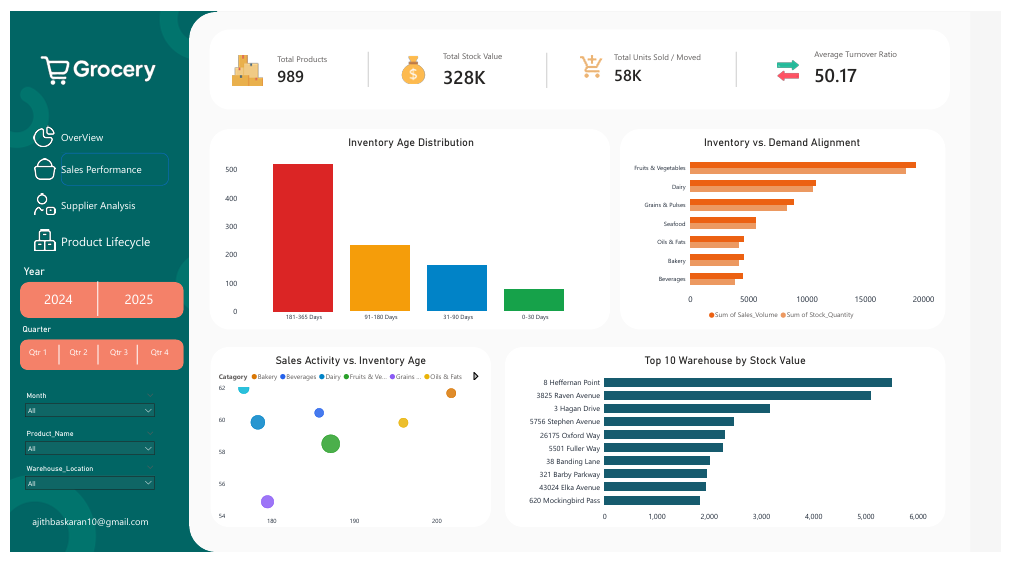

The page's visual inventory and layout, read from the dashboard file:
{"tool":"powerbi","page":{"name":"Product Lifecycle","canvas":[1980,1080],"ordinal":3},"visuals":[{"type":"shape","box":[357.8,0,1561.4,1080],"z":0},{"type":"cardVisual","fields":{"Data":["Sum(Grocery_Inventory.Sales_Volume)"]},"box":[1177.6,41.2,273.3,143.1],"z":0,"group":"g2"},{"type":"cardVisual","fields":{"Data":["Key Measures.Total Products"]},"box":[505.3,45.5,210.4,138.8],"z":0,"group":"g1"},{"type":"cardVisual","fields":{"Data":["Key Measures.Average Turnover Ratio"]},"box":[1577.6,45.5,242.9,132.3],"z":0,"group":"g4"},{"type":"cardVisual","fields":{"Data":["Key Measures.Total Stock Value"]},"box":[836.8,54.2,195.5,123.6],"z":0,"group":"g3"},{"type":"shape","box":[399,34.7,1479,160.5],"z":1000},{"type":"image","box":[1128.6,84.1,67.2,52],"z":1000,"group":"g2"},{"type":"image","box":[776.4,85.1,60.4,61.8],"z":1000,"group":"g3"},{"type":"image","box":[441.4,87.7,69.4,60.7],"z":1000,"group":"g1"},{"type":"image","box":[1533.3,95.4,43.4,43.4],"z":2000},{"type":"group","id":"g1","title":"Group 1","box":[441.4,45.5,274.2,138.8],"z":3000},{"type":"group","id":"g2","title":"Group 3","box":[1128.6,41.2,322.3,143.1],"z":4000},{"type":"group","id":"g3","title":"Group 2","box":[776.4,54.2,255.9,123.6],"z":5000},{"type":"group","id":"g4","title":"Group 4","box":[1577.6,45.5,242.9,132.3],"z":6000},{"type":"shape","box":[676.6,80.2,78.1,69.4],"z":7000},{"type":"shape","box":[1411.8,80.2,78.1,69.4],"z":8000},{"type":"shape","box":[1032.3,82.4,80.2,69.4],"z":9000},{"type":"shape","box":[399,234.2,800.2,401.2],"z":10000},{"type":"shape","box":[1218.8,234.2,650.6,401.2],"z":11000},{"type":"shape","box":[401.2,670.1,559.5,360],"z":12000},{"type":"shape","box":[988.9,670.1,880.5,360],"z":13000},{"type":"image","box":[26,17.3,299.3,199.5],"z":14000},{"type":"image","box":[34.7,227.7,67.2,43.4],"z":15000},{"type":"image","box":[47.7,292.8,43.4,43.4],"z":16000},{"type":"image","box":[47.7,362.2,43.4,45.5],"z":17000},{"type":"image","box":[47.7,435.9,43.4,43.4],"z":18000},{"type":"shape","box":[19.5,654.9,327.5,60.7],"z":19000},{"type":"advancedSlicerVisual","fields":{"Values":["Grocery_Inventory.Date_Received.Variation.Date Hierarchy.Quarter"]},"box":[19.5,624.6,327.5,91.1],"z":20000},{"type":"shape","box":[58.6,665.8,78.1,39],"z":21000},{"type":"shape","box":[136.6,665.8,78.1,39],"z":22000},{"type":"shape","box":[214.7,665.8,78.1,39],"z":23000},{"type":"slicer","fields":{"Values":["Grocery_Inventory.Date_Received.Variation.Date Hierarchy.Month"]},"box":[19.5,754.7,279.8,69.4],"z":24000},{"type":"slicer","fields":{"Values":["Grocery_Inventory.Product_Name"]},"box":[19.5,830.6,279.8,69.4],"z":25000},{"type":"textbox","box":[10.8,1001.9,299.3,56.4],"z":26000},{"type":"clusteredColumnChart","title":"Inventory Age Distribution","fields":{"Category":["Grocery_Inventory.Product Age Group"],"Y":["CountNonNull(Grocery_Inventory.Product_ID)"]},"box":[425.1,249.4,752.5,379.5],"z":27000},{"type":"scatterChart","title":"Sales Activity vs. Inventory Age","fields":{"X":["Avg(Grocery_Inventory.Product Age Days)"],"Y":["Avg(Grocery_Inventory.Sales_Volume)"],"Size":["Sum(Grocery_Inventory.Stock_Quantity)"],"Series":["Grocery_Inventory.Catagory"]},"box":[412,685.3,537.8,351.3],"z":28000},{"type":"clusteredBarChart","title":"Inventory vs. Demand Alignment","fields":{"Category":["Grocery_Inventory.Catagory"],"Y":["Sum(Grocery_Inventory.Sales_Volume)","Sum(Grocery_Inventory.Stock_Quantity)"]},"box":[1234,249.4,618.1,375.2],"z":29000},{"type":"slicer","fields":{"Values":["Grocery_Inventory.Warehouse_Location"]},"box":[19.5,900,279.8,69.4],"z":30000},{"type":"shape","box":[101.9,216.9,214.7,65.1],"z":31000},{"type":"shape","box":[101.9,281.9,214.7,65.1],"z":32000},{"type":"shape","box":[101.9,353.5,214.7,65.1],"z":33000},{"type":"shape","box":[101.9,425.1,214.7,65.1],"z":34000},{"type":"clusteredBarChart","title":"Top 10 Warehouse by Stock Value","fields":{"Category":["Grocery_Inventory.Warehouse_Location"],"Y":["Key Measures.Total Stock Value"]},"box":[1021.4,685.3,815.4,344.8],"z":35000},{"type":"shape","box":[19.5,540,327.5,71.6],"z":35001},{"type":"group","id":"g5","title":"Group 5","box":[21.7,507.5,325.3,106.8],"z":35002},{"type":"advancedSlicerVisual","fields":{"Values":["Grocery_Inventory.Date_Received.Variation.Date Hierarchy.Year"]},"box":[21.7,507.5,325.3,106.8],"z":37000,"group":"g5"},{"type":"shape","box":[135.2,539,80.2,69.4],"z":38000,"group":"g5"}]}

Visuals, with their boxes on the page's 1980x1080 design canvas (x1, y1, x2, y2). These are canvas units, not pixel positions in the 1010x562 screenshot, which may show the page scaled, cropped or inside an application window:
shape: {"x1": 358, "y1": 0, "x2": 1919, "y2": 1080}
cardVisual - Sum(Grocery_Inventory.Sales_Volume): {"x1": 1178, "y1": 41, "x2": 1451, "y2": 184}
cardVisual - Key Measures.Total Products: {"x1": 505, "y1": 46, "x2": 716, "y2": 184}
cardVisual - Key Measures.Average Turnover Ratio: {"x1": 1578, "y1": 46, "x2": 1820, "y2": 178}
cardVisual - Key Measures.Total Stock Value: {"x1": 837, "y1": 54, "x2": 1032, "y2": 178}
shape: {"x1": 399, "y1": 35, "x2": 1878, "y2": 195}
image: {"x1": 1129, "y1": 84, "x2": 1196, "y2": 136}
image: {"x1": 776, "y1": 85, "x2": 837, "y2": 147}
image: {"x1": 441, "y1": 88, "x2": 511, "y2": 148}
image: {"x1": 1533, "y1": 95, "x2": 1577, "y2": 139}
"Group 1" group: {"x1": 441, "y1": 46, "x2": 716, "y2": 184}
"Group 3" group: {"x1": 1129, "y1": 41, "x2": 1451, "y2": 184}
"Group 2" group: {"x1": 776, "y1": 54, "x2": 1032, "y2": 178}
"Group 4" group: {"x1": 1578, "y1": 46, "x2": 1820, "y2": 178}
shape: {"x1": 677, "y1": 80, "x2": 755, "y2": 150}
shape: {"x1": 1412, "y1": 80, "x2": 1490, "y2": 150}
shape: {"x1": 1032, "y1": 82, "x2": 1112, "y2": 152}
shape: {"x1": 399, "y1": 234, "x2": 1199, "y2": 635}
shape: {"x1": 1219, "y1": 234, "x2": 1869, "y2": 635}
shape: {"x1": 401, "y1": 670, "x2": 961, "y2": 1030}
shape: {"x1": 989, "y1": 670, "x2": 1869, "y2": 1030}
image: {"x1": 26, "y1": 17, "x2": 325, "y2": 217}
image: {"x1": 35, "y1": 228, "x2": 102, "y2": 271}
image: {"x1": 48, "y1": 293, "x2": 91, "y2": 336}
image: {"x1": 48, "y1": 362, "x2": 91, "y2": 408}
image: {"x1": 48, "y1": 436, "x2": 91, "y2": 479}
shape: {"x1": 20, "y1": 655, "x2": 347, "y2": 716}
advancedSlicerVisual - Grocery_Inventory.Date_Received.Variation.Date Hierarchy.Quarter: {"x1": 20, "y1": 625, "x2": 347, "y2": 716}
shape: {"x1": 59, "y1": 666, "x2": 137, "y2": 705}
shape: {"x1": 137, "y1": 666, "x2": 215, "y2": 705}
shape: {"x1": 215, "y1": 666, "x2": 293, "y2": 705}
slicer - Grocery_Inventory.Date_Received.Variation.Date Hierarchy.Month: {"x1": 20, "y1": 755, "x2": 299, "y2": 824}
slicer - Grocery_Inventory.Product_Name: {"x1": 20, "y1": 831, "x2": 299, "y2": 900}
textbox: {"x1": 11, "y1": 1002, "x2": 310, "y2": 1058}
"Inventory Age Distribution" clusteredColumnChart: {"x1": 425, "y1": 249, "x2": 1178, "y2": 629}
"Sales Activity vs. Inventory Age" scatterChart: {"x1": 412, "y1": 685, "x2": 950, "y2": 1037}
"Inventory vs. Demand Alignment" clusteredBarChart: {"x1": 1234, "y1": 249, "x2": 1852, "y2": 625}
slicer - Grocery_Inventory.Warehouse_Location: {"x1": 20, "y1": 900, "x2": 299, "y2": 969}
shape: {"x1": 102, "y1": 217, "x2": 317, "y2": 282}
shape: {"x1": 102, "y1": 282, "x2": 317, "y2": 347}
shape: {"x1": 102, "y1": 354, "x2": 317, "y2": 419}
shape: {"x1": 102, "y1": 425, "x2": 317, "y2": 490}
"Top 10 Warehouse by Stock Value" clusteredBarChart: {"x1": 1021, "y1": 685, "x2": 1837, "y2": 1030}
shape: {"x1": 20, "y1": 540, "x2": 347, "y2": 612}
"Group 5" group: {"x1": 22, "y1": 508, "x2": 347, "y2": 614}
advancedSlicerVisual - Grocery_Inventory.Date_Received.Variation.Date Hierarchy.Year: {"x1": 22, "y1": 508, "x2": 347, "y2": 614}
shape: {"x1": 135, "y1": 539, "x2": 215, "y2": 608}
